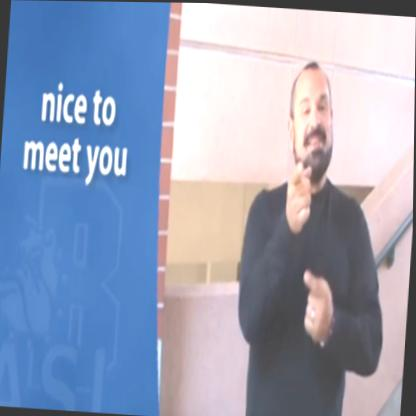NiceToMeetYou: (258, 122, 370, 356)
